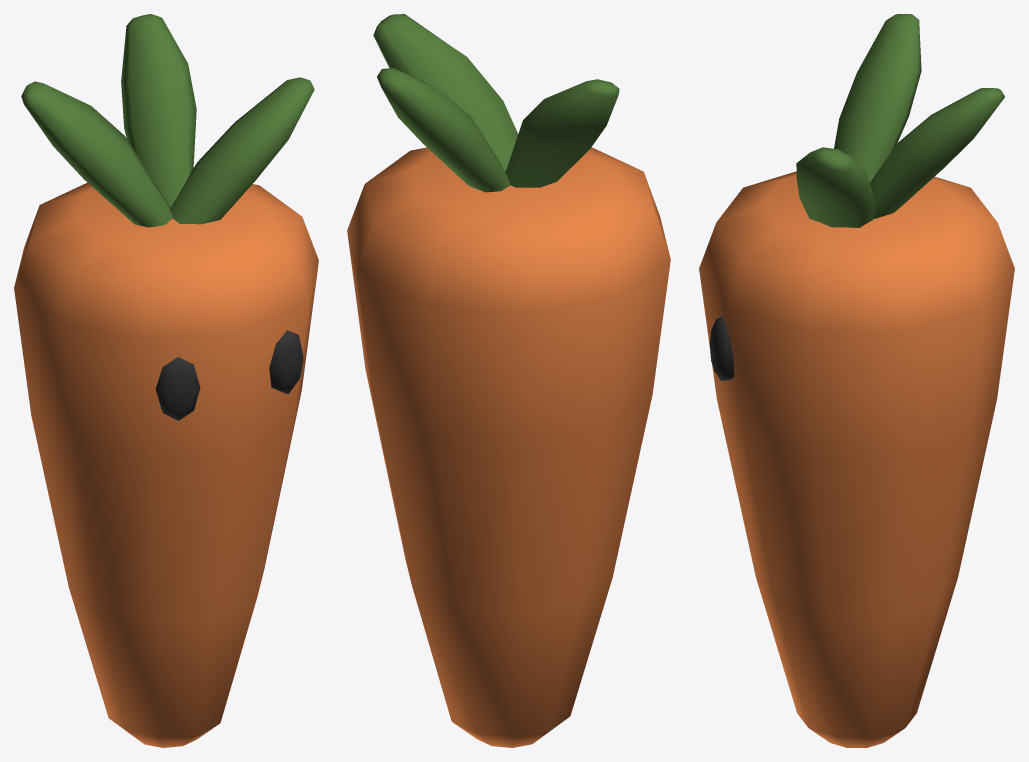
Rendered from Carrot_01.fbx.
3 renders of one model, left to right at view 1: azimuth 30°, elevation 25°; view 2: azimuth 150°, elevation 25°; view 3: azimuth 270°, elevation 25°, orthographic. The views are drawn at different scales.
Parts seen in each view (by area): view 1: Carrot_01; view 2: Carrot_01; view 3: Carrot_01.
Part boxes in pixels (x1,y1,x2,y2): Carrot_01: [14, 14, 318, 747]; Carrot_01: [347, 14, 670, 747]; Carrot_01: [699, 14, 1014, 747].
Size of the model in its own units: 0.1226 by 0.2941 by 0.126.
